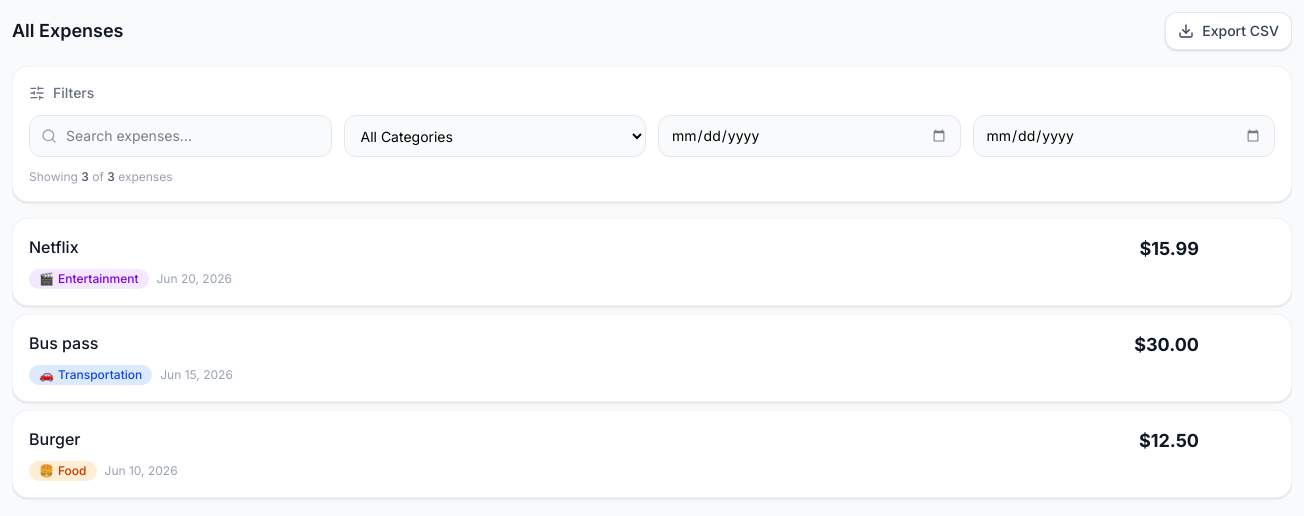
Scenario: ExpenseList — filtering › restores all expenses when "Clear filters" is clicked
The width and height of the screenshot is (1304, 516).
Type "zzz-no-match" into the field with placeholder "Search expenses...".
click(180, 136); type("zzz-no-match")  # box [29,115,332,157]
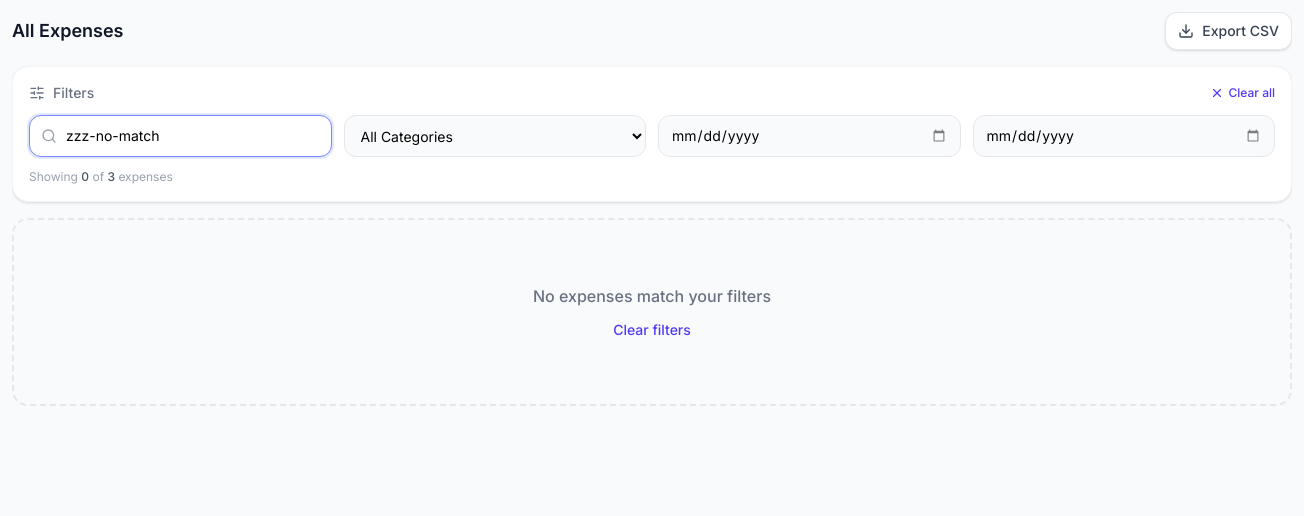
Click the button "Clear filters".
click(652, 330)  # box [613,320,691,340]
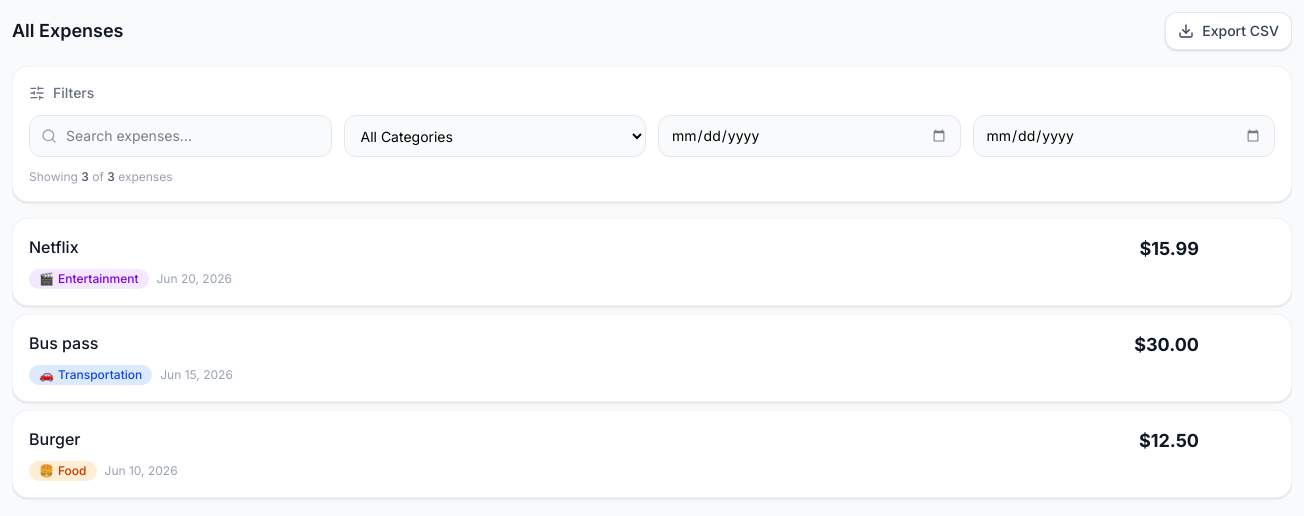
Result: the text "Burger" is shown at [29,427,80,451]
Result: the text "Bus pass" is shown at [29,331,98,355]
Result: the text "Netflix" is shown at [29,235,79,259]
